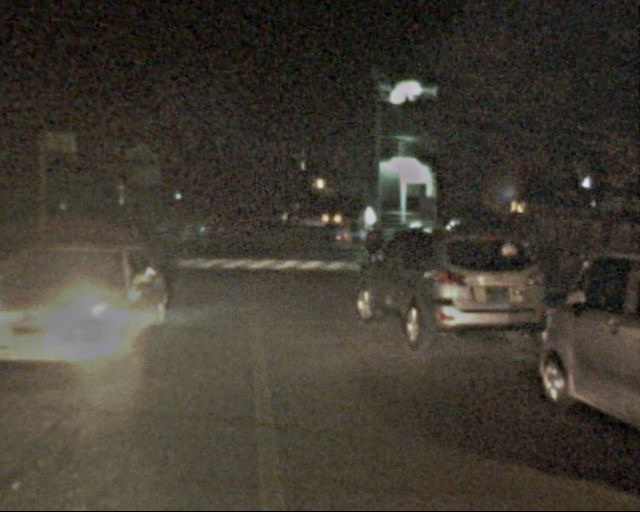person: (360, 222, 385, 283), (121, 215, 145, 273), (167, 217, 181, 257)
